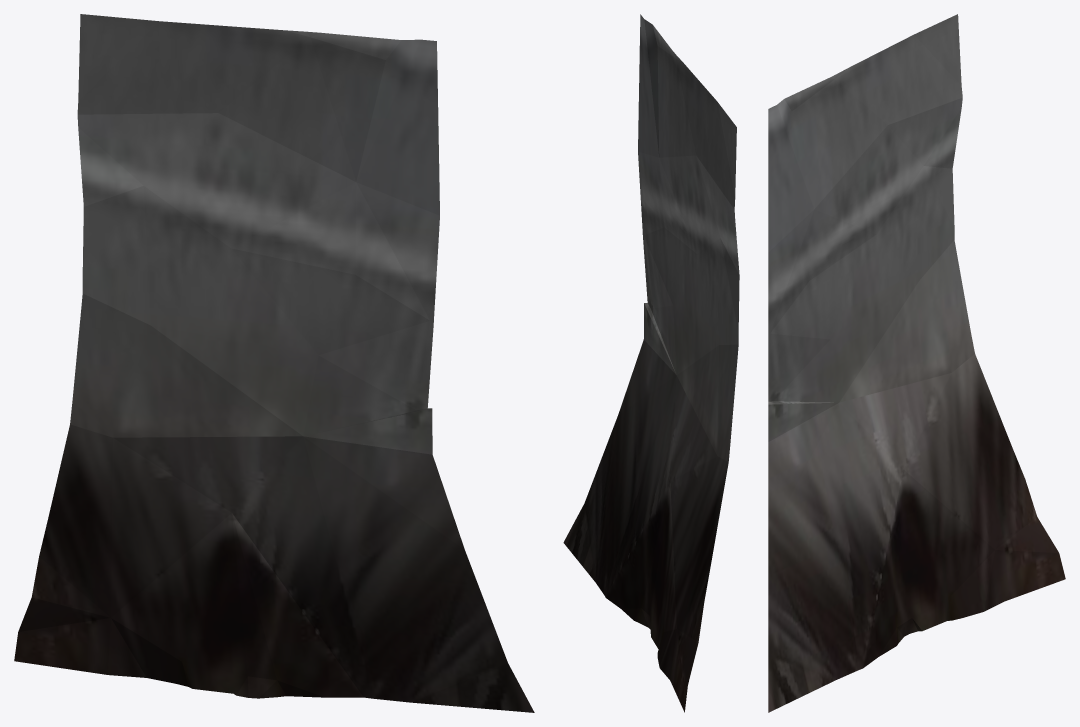
The picture shows the model from 3 angles, left to right: view 1: azimuth 30°, elevation 25°; view 2: azimuth 150°, elevation 25°; view 3: azimuth 270°, elevation 25°; orthographic projection. The views are drawn at different scales.
Bounding box in the file's own units: 0.425 × 0.8373 × 0.3996.
2 materials, 2 textured.
